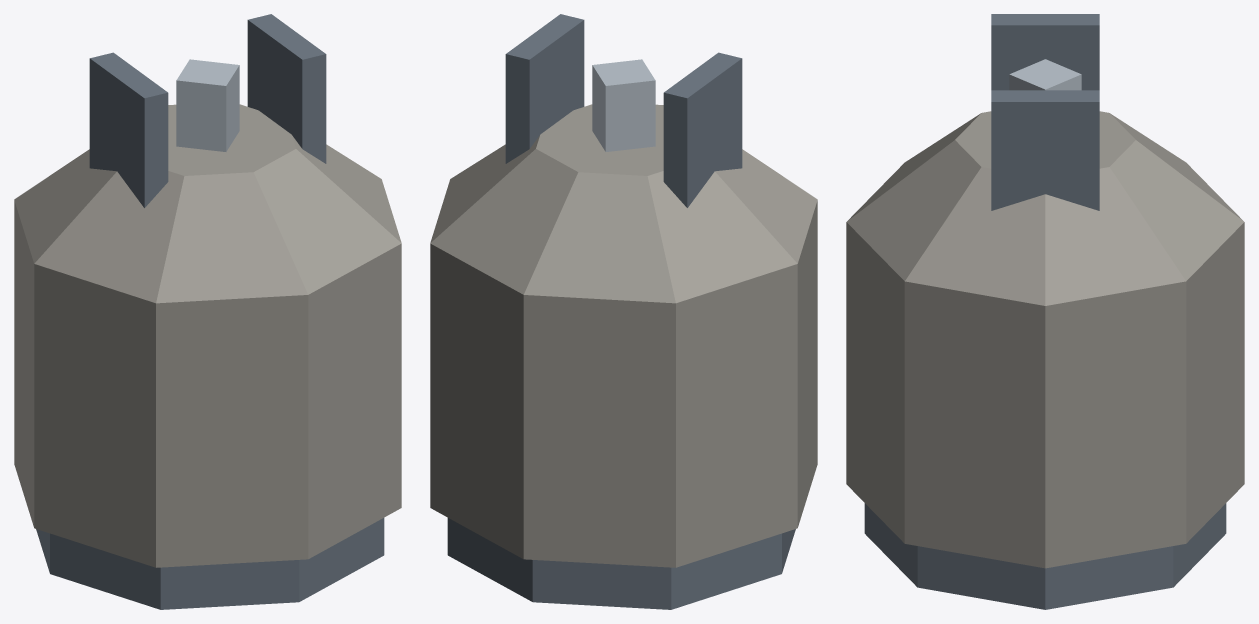
The model's file is botijao.glb.
3 renders of one model, left to right at view 1: azimuth 30°, elevation 25°; view 2: azimuth 150°, elevation 25°; view 3: azimuth 270°, elevation 25°, orthographic.
Visible parts, largest first — view 1: corpo; view 2: corpo; view 3: corpo.
Boxes of the visible parts, <box> form: corpo: <box>14,14,401,609</box>; corpo: <box>430,14,817,609</box>; corpo: <box>846,14,1244,609</box>.
Size of the model in its own units: 0.22 by 0.29 by 0.22.
